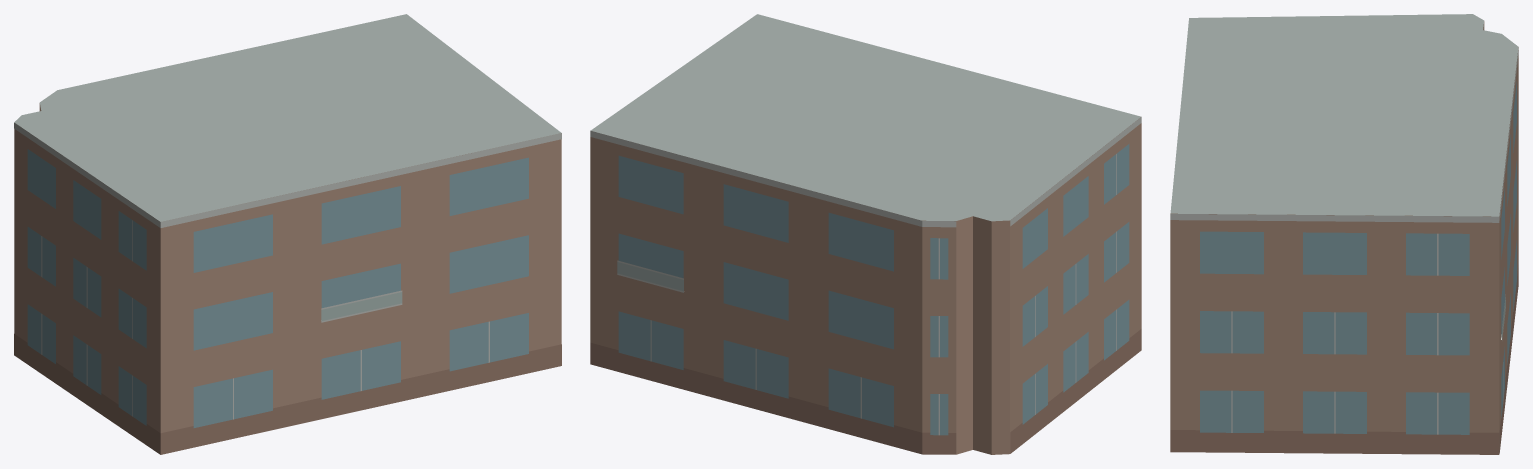
Rendered from survey-upis-32531628.glb.
3 renders of one model, left to right at view 1: azimuth 30°, elevation 25°; view 2: azimuth 150°, elevation 25°; view 3: azimuth 270°, elevation 25°, orthographic. The views are drawn at different scales.
Visible parts, largest first — view 1: survey-upis-32531628.tmp; view 2: survey-upis-32531628.tmp; view 3: survey-upis-32531628.tmp.
Part boxes in pixels (x1,y1,x2,y2): survey-upis-32531628.tmp: (14, 14, 561, 454); survey-upis-32531628.tmp: (590, 14, 1141, 454); survey-upis-32531628.tmp: (1170, 14, 1518, 454).
Size of the model in its own units: 16.68 by 9.15 by 12.12.
